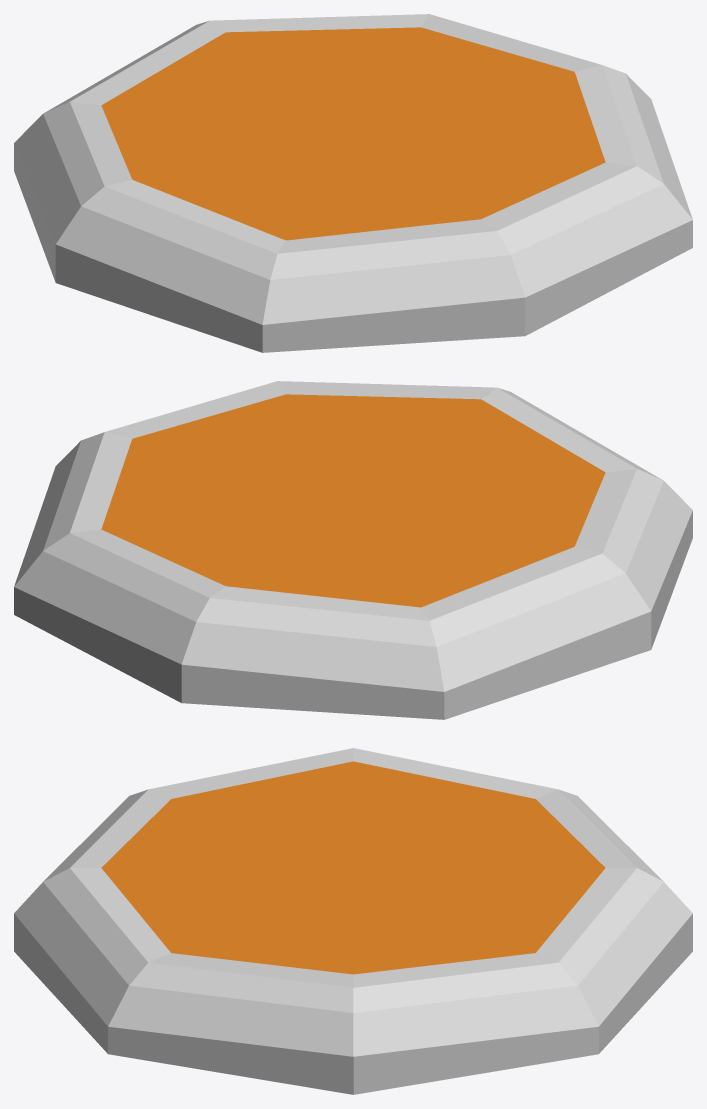
The model's file is Fan.fbx.
3 views of the same model, one above another, from view 1: azimuth 30°, elevation 25°; view 2: azimuth 150°, elevation 25°; view 3: azimuth 270°, elevation 25° (orthographic).
Visible parts, largest first — view 1: Cube; view 2: Cube; view 3: Cube.
Part boxes in pixels (<box>): Cube: <box>14,14,692,352</box>; Cube: <box>14,381,692,719</box>; Cube: <box>14,748,692,1094</box>.
Size of the model in its own units: 1098 by 149 by 1098.
